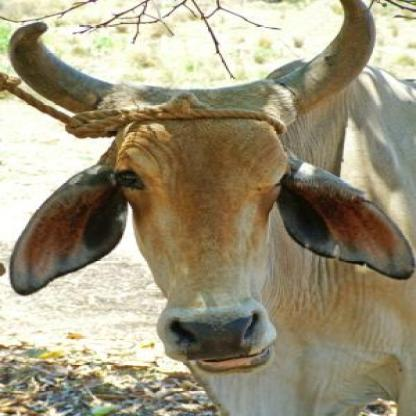lower: (211, 362, 252, 370)
mouth: (157, 303, 278, 375)
upper: (208, 324, 230, 344)
